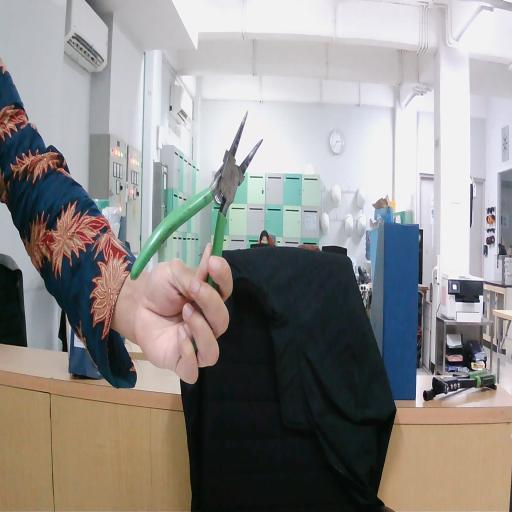tang_scun_hidrolik: (122, 91, 265, 320)
